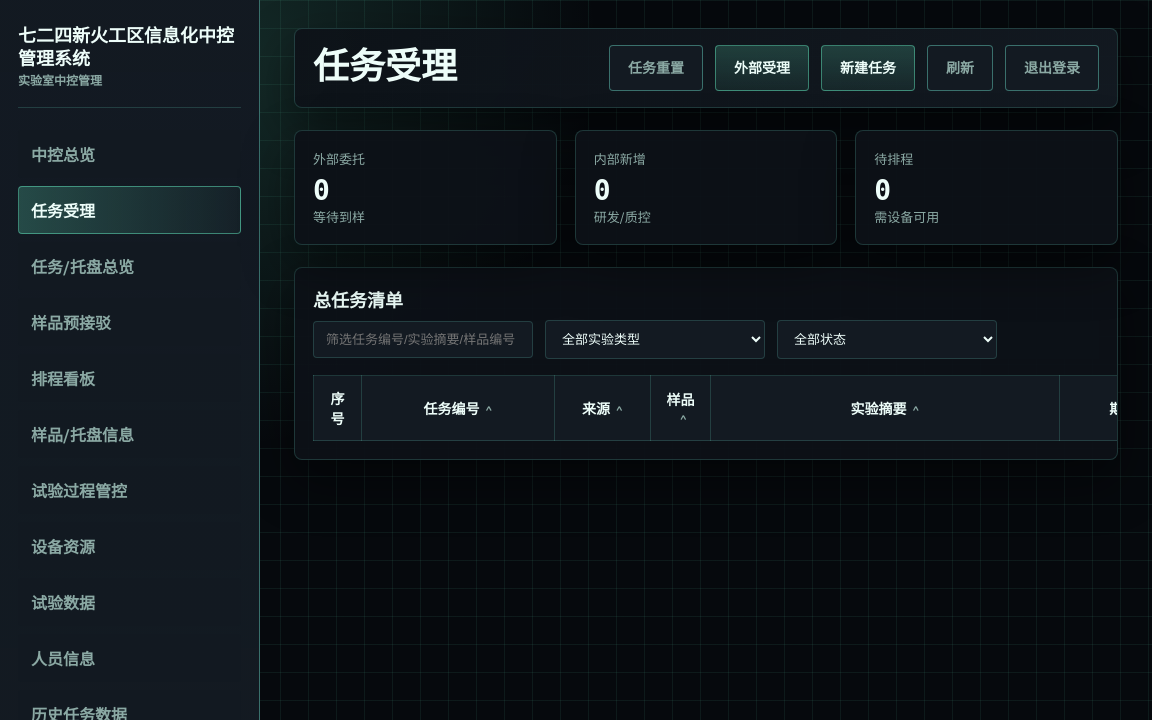
Test: App task intake entry › opens the task intake modal after clicking the header new-task entry on /tasks
Click the button with test id "open-task-intake".
click(868, 68)  # box [821, 45, 915, 91]
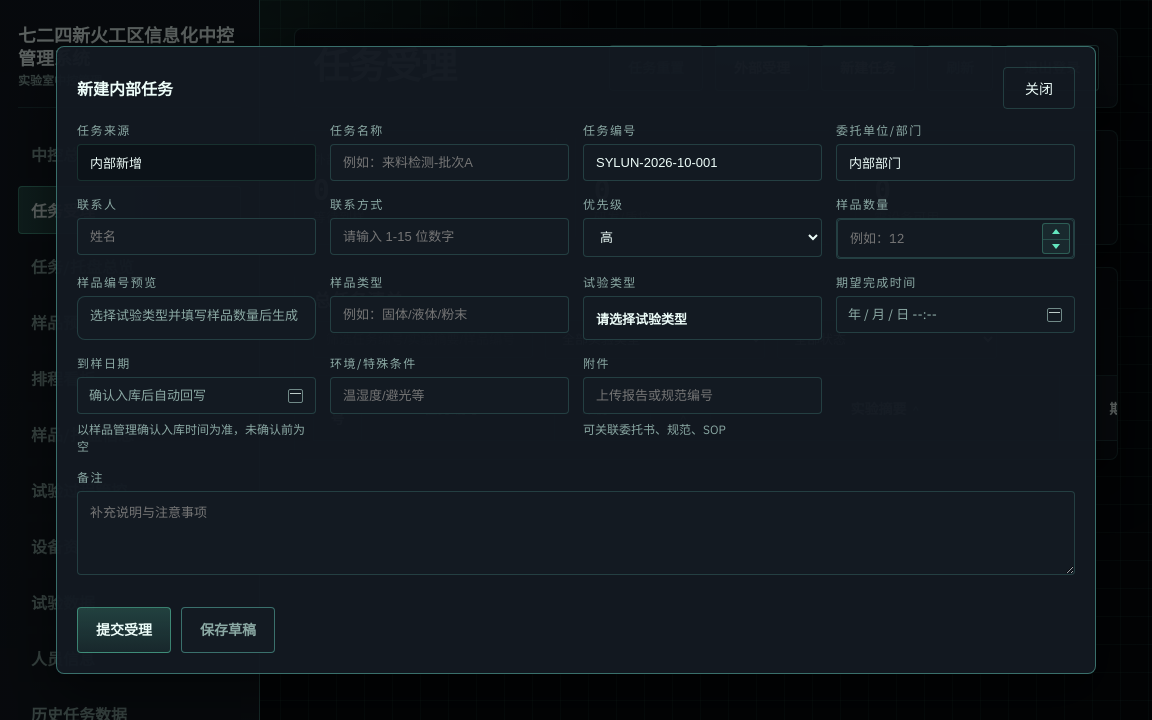
Now the element with class "is-open" is shown
